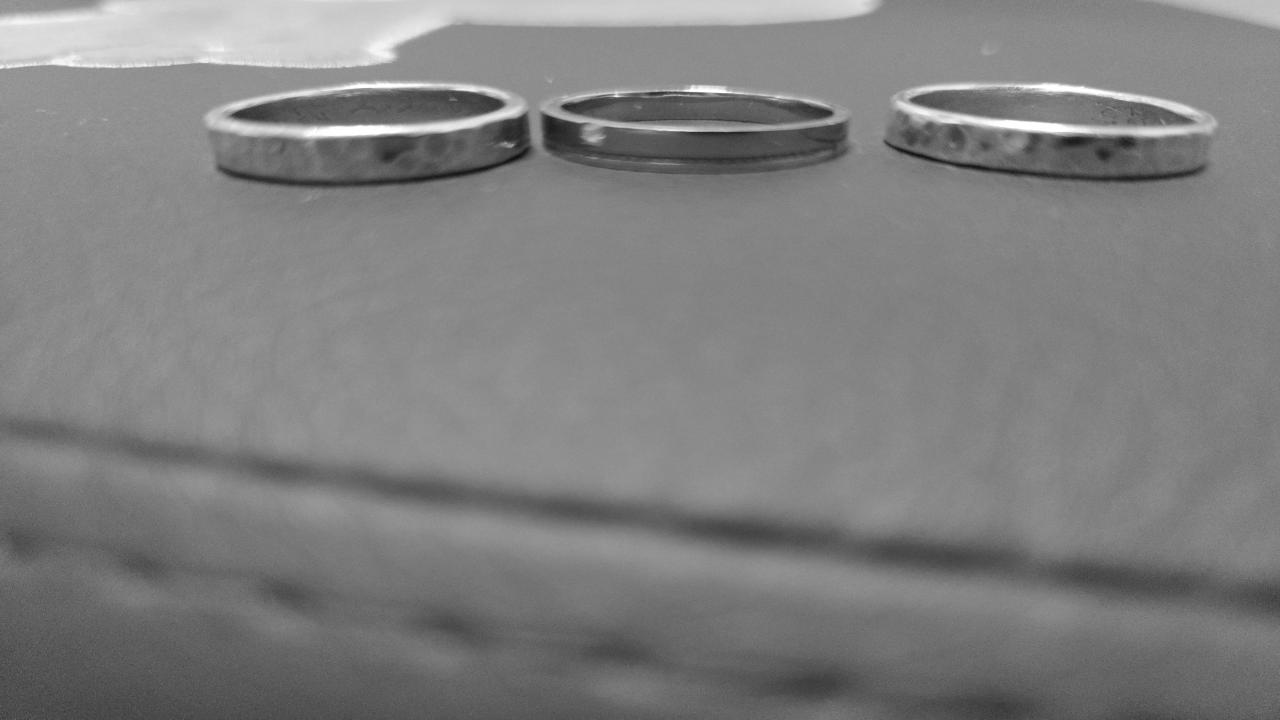ring: (202, 80, 534, 186), (884, 81, 1226, 180), (540, 85, 849, 173)
